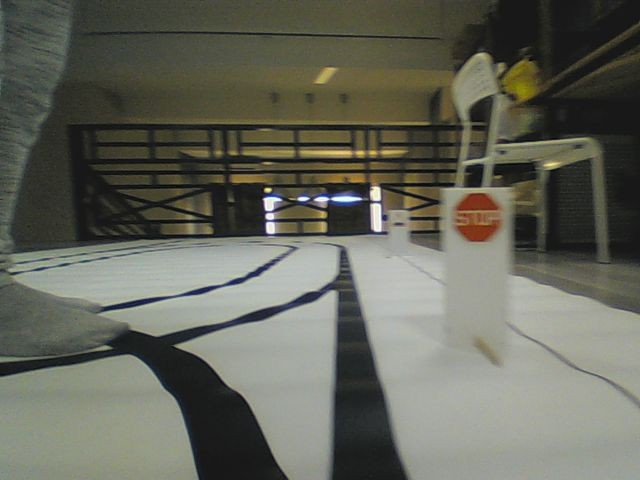Stop: (453, 191, 502, 243)
